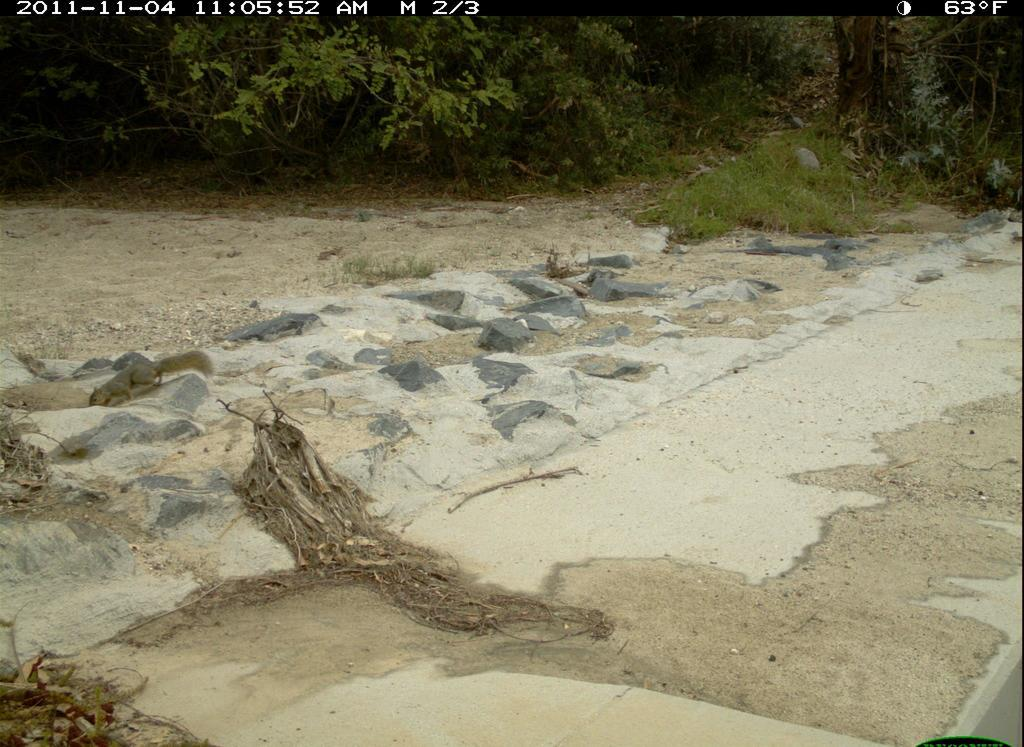squirrel: (86, 347, 225, 433)
